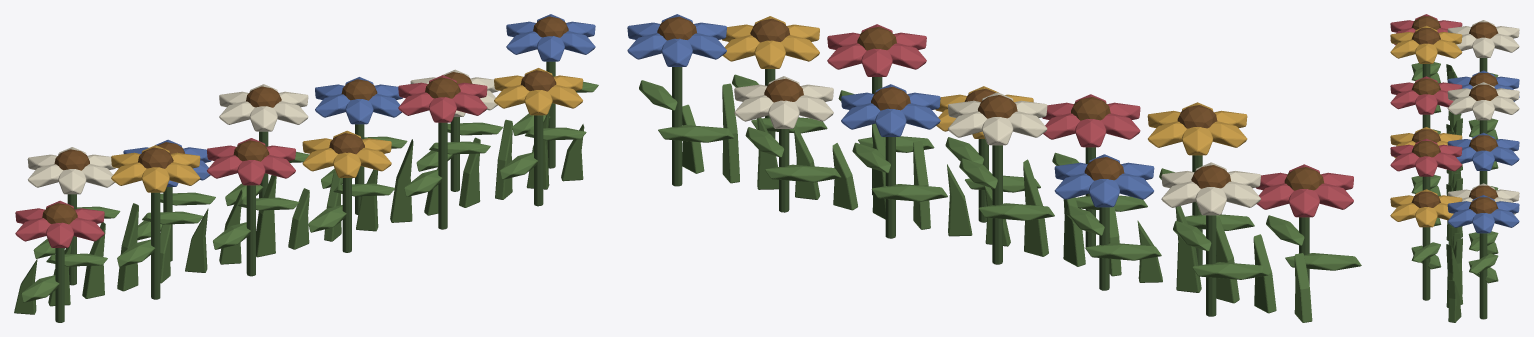
File: Flower_Border.fbx
3 renders of one model, left to right at view 1: azimuth 30°, elevation 25°; view 2: azimuth 150°, elevation 25°; view 3: azimuth 270°, elevation 25°, orthographic. The views are drawn at different scales.
Parts seen in each view (by area): view 1: Flower border foliage.028, Flower border foliage.024, Border flower 9 stem.001, Border flower 3 stem.001, Flower border foliage.020, Flower border foliage.019, Flower border foliage.030, Flower border foliage.031, Flower border foliage.025, Flower border foliage.022, Border flower 11 stem.001, Border flower 5 stem.001 (+66 smaller); view 2: Flower border foliage.024, Flower border foliage.032, Flower border foliage.020, Flower border foliage.018, Border flower 12 stem.001, Border flower 6 stem.001, Flower border foliage.026, Flower border foliage.029, Flower border foliage.019, Flower border foliage.027, Border flower 4 low leaf.001, Border flower 6 low leaf.001 (+74 smaller); view 3: Border flower 12 stem.001, Flower border foliage.032, Border flower 11 stem.001, Flower border foliage.033, Border flower 12 petal.006, Border flower 6 petal.006, Border flower 11 petal.006, Border flower 3 petal.006, Border flower 5 petal.006, Border flower 8 petal.006, Border flower 9 petal.006, Border flower 2 petal.006 (+74 smaller).
Part boxes in pixels (x1,y1,x2,y2): Flower border foliage.028: [390, 139, 413, 222]; Flower border foliage.024: [256, 175, 276, 257]; Border flower 9 stem.001: [438, 122, 447, 229]; Border flower 3 stem.001: [151, 192, 160, 299]; Flower border foliage.020: [117, 203, 138, 291]; Flower border foliage.019: [82, 222, 105, 298]; Flower border foliage.030: [459, 137, 480, 207]; Flower border foliage.031: [495, 119, 512, 199]; Flower border foliage.025: [288, 188, 309, 249]; Flower border foliage.022: [185, 208, 208, 272]; Border flower 11 stem.001: [534, 115, 543, 206]; Border flower 5 stem.001: [246, 185, 255, 276]; Flower border foliage.024: [1023, 159, 1048, 256]; Flower border foliage.032: [722, 83, 739, 183]; Flower border foliage.020: [1175, 206, 1201, 292]; Flower border foliage.018: [1253, 234, 1276, 313]; Border flower 12 stem.001: [672, 67, 682, 186]; Border flower 6 stem.001: [992, 145, 1002, 264]; Flower border foliage.026: [947, 164, 972, 236]; Flower border foliage.029: [832, 143, 857, 210]; Flower border foliage.019: [1216, 216, 1239, 303]; Flower border foliage.027: [913, 140, 930, 229]; Border flower 4 low leaf.001: [1085, 243, 1161, 260]; Border flower 6 low leaf.001: [978, 203, 1054, 220]; Border flower 12 stem.001: [1479, 233, 1487, 319]; Flower border foliage.032: [1446, 244, 1462, 307]; Border flower 11 stem.001: [1422, 227, 1430, 300]; Flower border foliage.033: [1448, 280, 1461, 322]; Border flower 12 petal.006: [1472, 213, 1494, 233]; Border flower 6 petal.006: [1472, 100, 1494, 120]; Border flower 11 petal.006: [1415, 207, 1437, 227]; Border flower 3 petal.006: [1415, 43, 1437, 63]; Border flower 5 petal.006: [1415, 94, 1437, 114]; Border flower 8 petal.006: [1472, 150, 1494, 170]; Border flower 9 petal.006: [1415, 156, 1437, 176]; Border flower 2 petal.006: [1472, 37, 1494, 57].
Bounding box in the file's own units: 3.6 × 0.83 × 0.8126.
